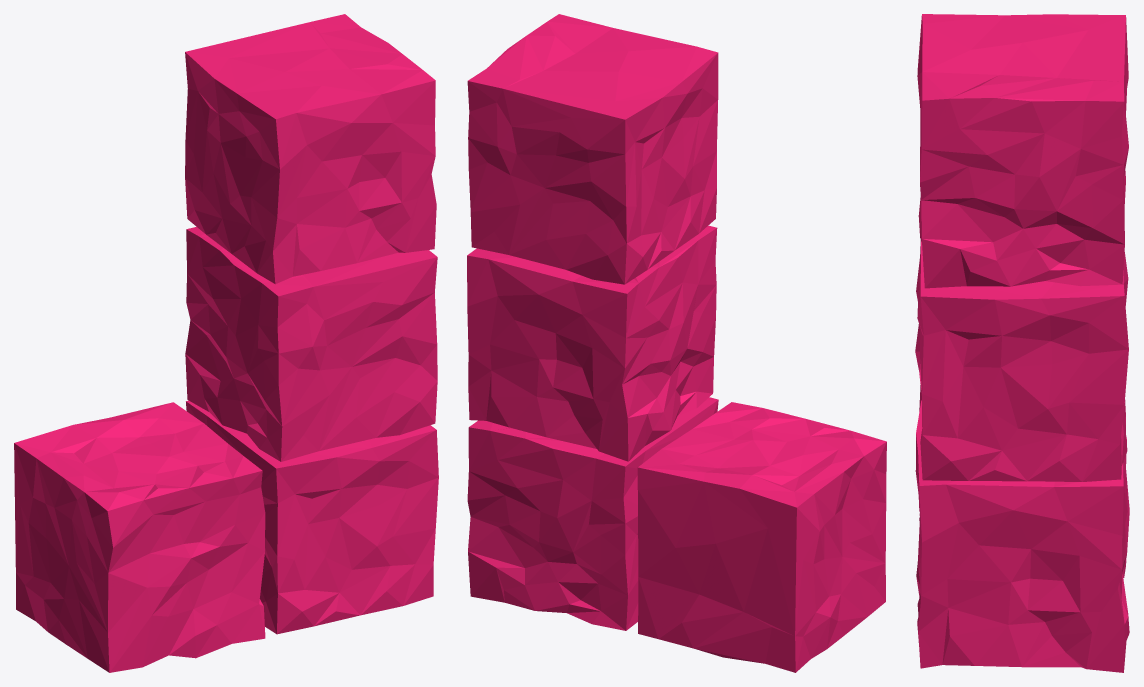
The model's file is L_tetris.fbx.
The picture shows the model from 3 angles, left to right: view 1: azimuth 30°, elevation 25°; view 2: azimuth 150°, elevation 25°; view 3: azimuth 270°, elevation 25°; orthographic projection. The views are drawn at different scales.
Parts seen in each view (by area): view 1: Cubo, Cubo_2, Cubo_3_2, Cubo_5; view 2: Cubo_2, Cubo, Cubo_3_2, Cubo_5; view 3: Cubo_2, Cubo_3_2, Cubo_5, Cubo.
Part boxes in pixels (<box>): Cubo: <box>14,402,265,672</box>; Cubo_2: <box>185,14,436,284</box>; Cubo_3_2: <box>185,227,437,461</box>; Cubo_5: <box>186,400,438,634</box>; Cubo_2: <box>467,14,718,284</box>; Cubo: <box>637,402,886,672</box>; Cubo_3_2: <box>467,225,717,461</box>; Cubo_5: <box>467,397,718,630</box>; Cubo_2: <box>917,14,1128,288</box>; Cubo_3_2: <box>916,240,1128,481</box>; Cubo_5: <box>915,400,1129,672</box>; Cubo: <box>915,324,1126,577</box>.
Bounding box in the file's own units: 426 × 630 × 212.
